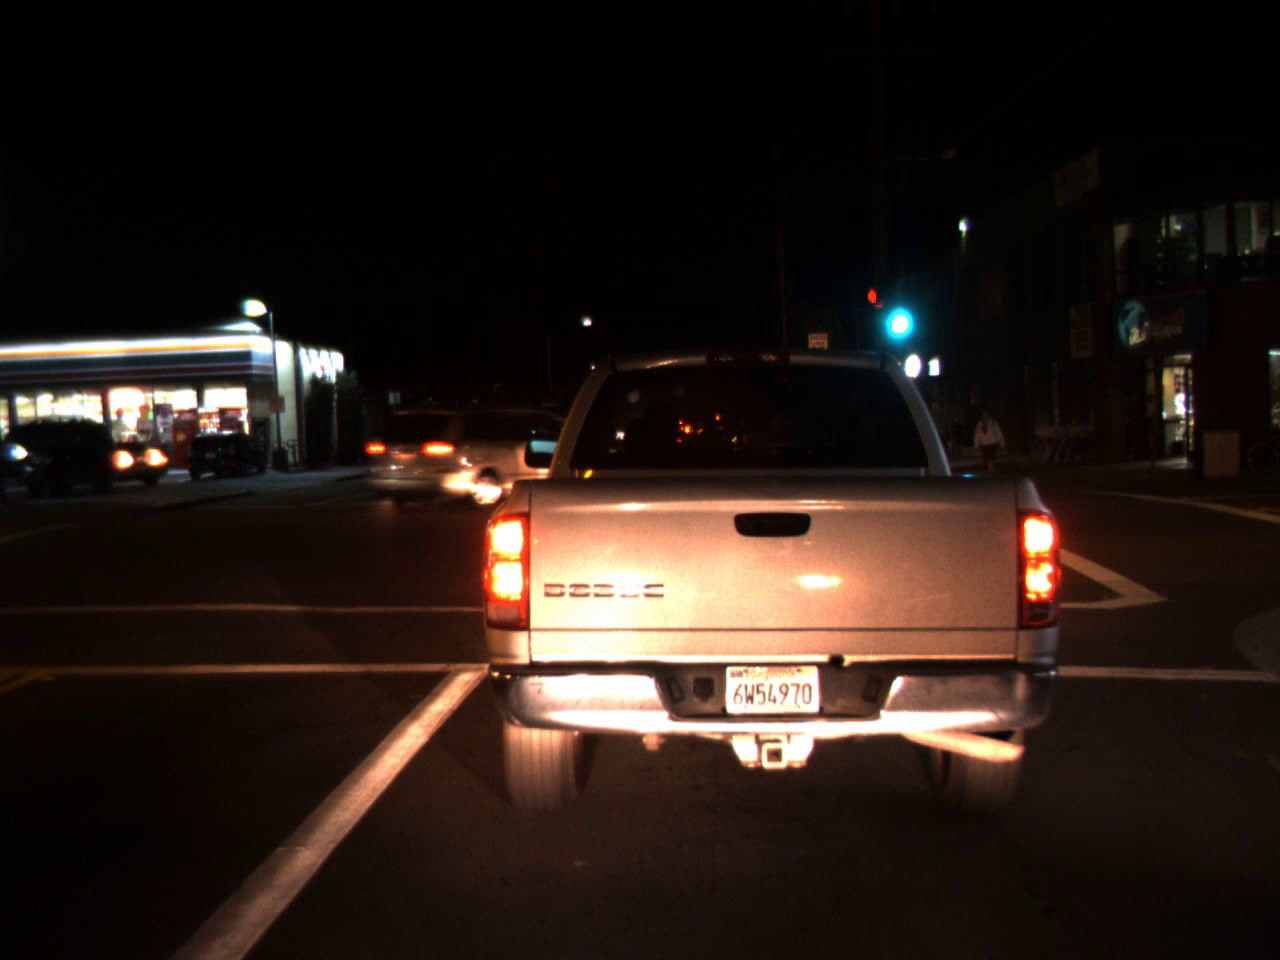go: (873, 272, 918, 350)
